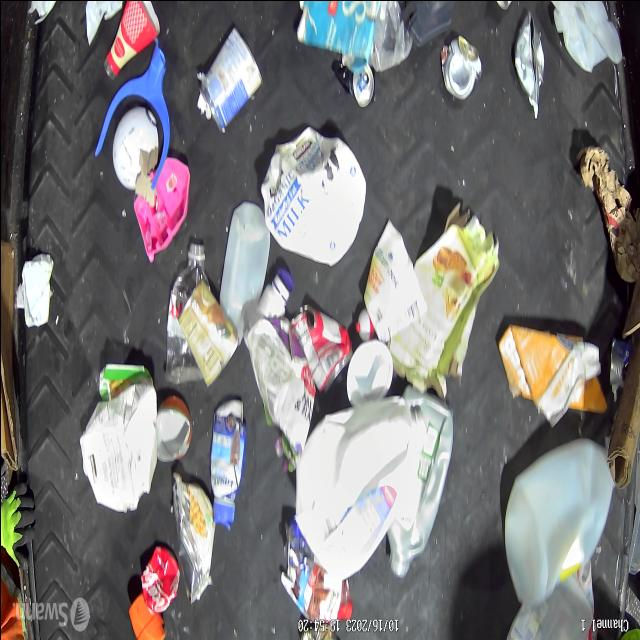can: (195, 18, 261, 134), (174, 282, 244, 386), (288, 294, 352, 392), (431, 30, 485, 108), (138, 540, 184, 620), (513, 1, 545, 116), (149, 390, 194, 468), (321, 57, 376, 105)
milk_jug: (293, 404, 420, 584), (501, 440, 617, 613), (260, 132, 368, 270), (78, 372, 158, 520), (217, 196, 268, 346), (506, 558, 599, 640), (549, 0, 629, 80)
non_white_jug: (376, 372, 456, 578)
plastic_bottle: (158, 232, 204, 382)
